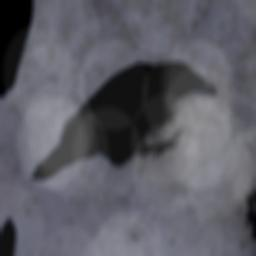Crow: (29, 17, 219, 251)
